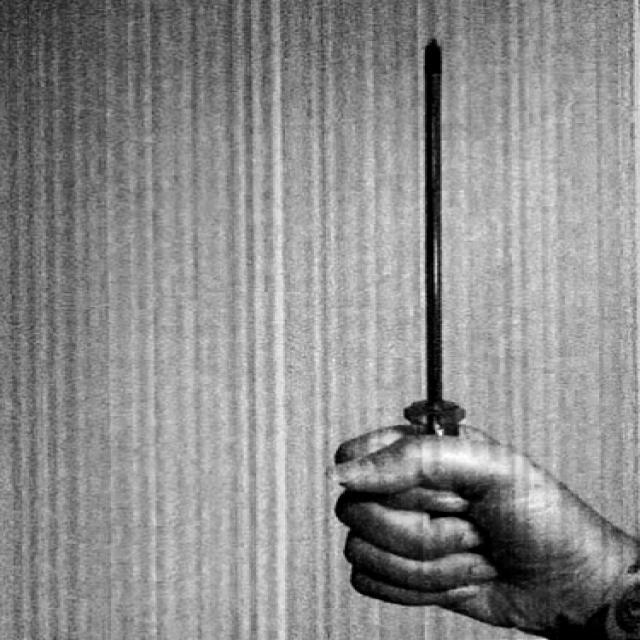screwdriver: (400, 33, 468, 442)
